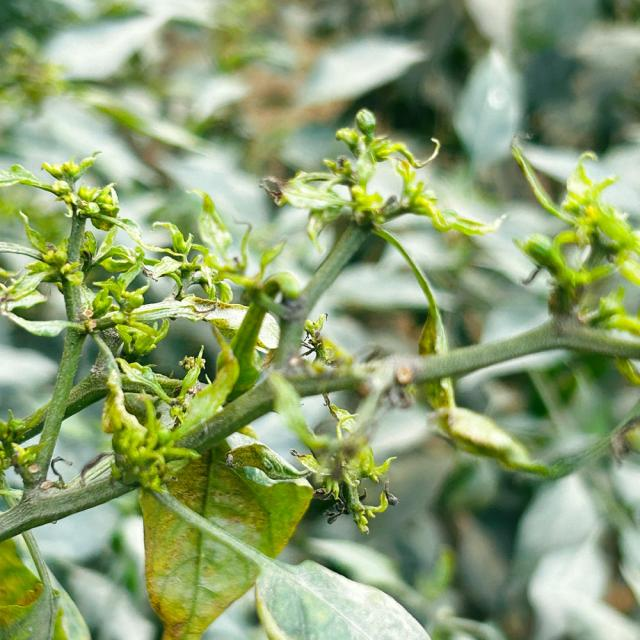Chilli_Leaf_Curl: (1, 108, 638, 638), (136, 437, 315, 638), (259, 106, 503, 248)
